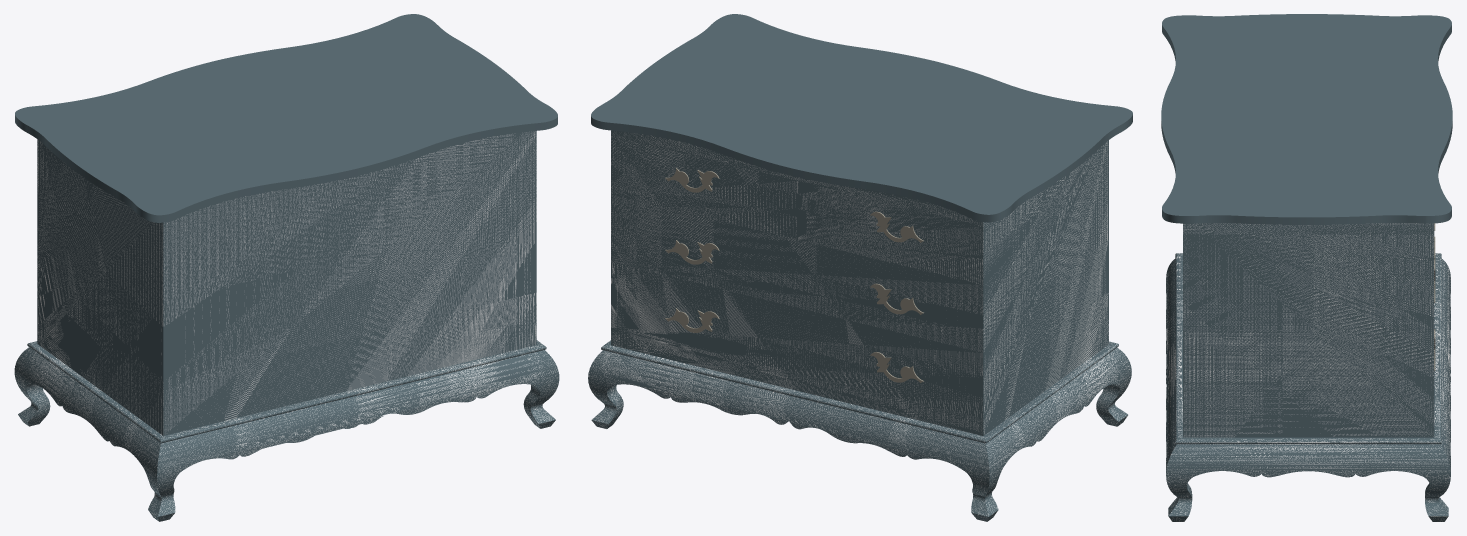
The picture shows the model from 3 angles, left to right: view 1: azimuth 30°, elevation 25°; view 2: azimuth 150°, elevation 25°; view 3: azimuth 270°, elevation 25°; orthographic projection.
Parts seen in each view (by area): view 1: mesh5_mesh5-geometry, mesh1_mesh1-geometry; view 2: mesh5_mesh5-geometry, mesh1_mesh1-geometry, mesh3_mesh3-geometry, mesh4_mesh4-geometry; view 3: mesh5_mesh5-geometry, mesh1_mesh1-geometry.
Part boxes in pixels (left/top/right/bottom): mesh5_mesh5-geometry: left=14, top=131, right=559, bottom=521; mesh1_mesh1-geometry: left=15, top=14, right=557, bottom=222; mesh5_mesh5-geometry: left=588, top=130, right=1131, bottom=521; mesh1_mesh1-geometry: left=591, top=14, right=1132, bottom=222; mesh3_mesh3-geometry: left=665, top=168, right=719, bottom=332; mesh4_mesh4-geometry: left=870, top=211, right=923, bottom=382; mesh5_mesh5-geometry: left=1166, top=223, right=1450, bottom=521; mesh1_mesh1-geometry: left=1161, top=14, right=1452, bottom=224.
Bounding box in the file's own units: 0.7308 × 0.5196 × 0.4426.
